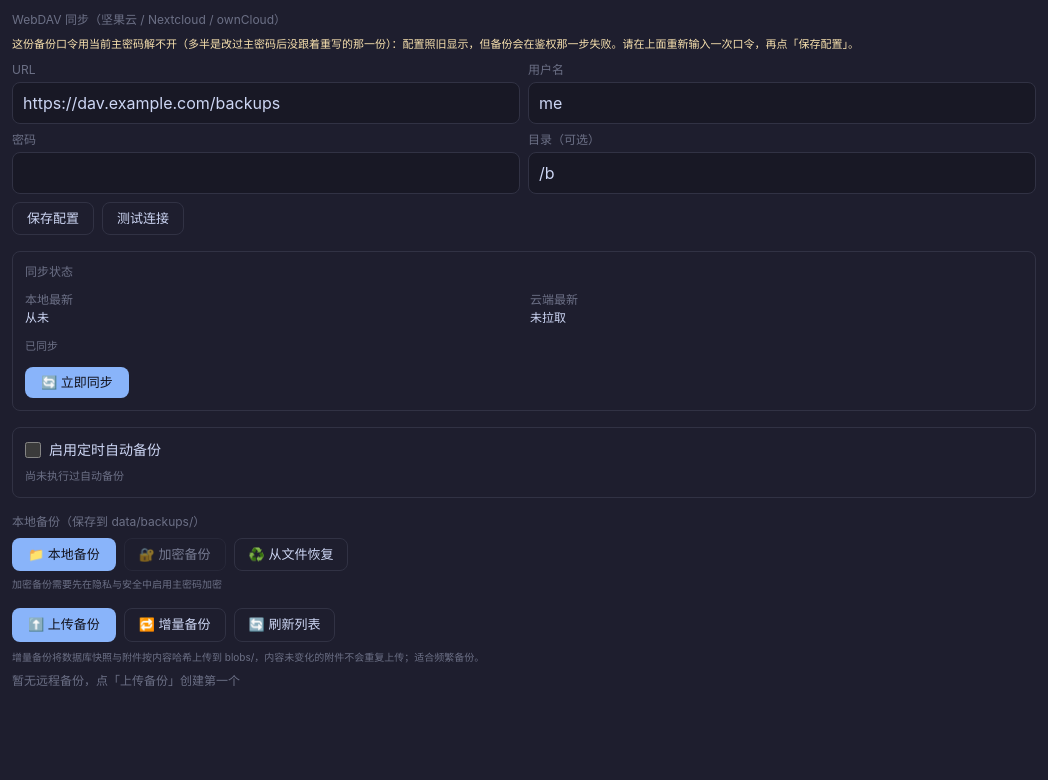
Test: ①「这份口令解不开」那一句 › 只改目录（口令栏留空＝沿用已存那份）⇒ 那句不许替它说话，仍然在屏上
Step 1. Replace the text in the field below "目录（可选）" with "/b2" → (782, 173), box 528,152 -> 1036,194
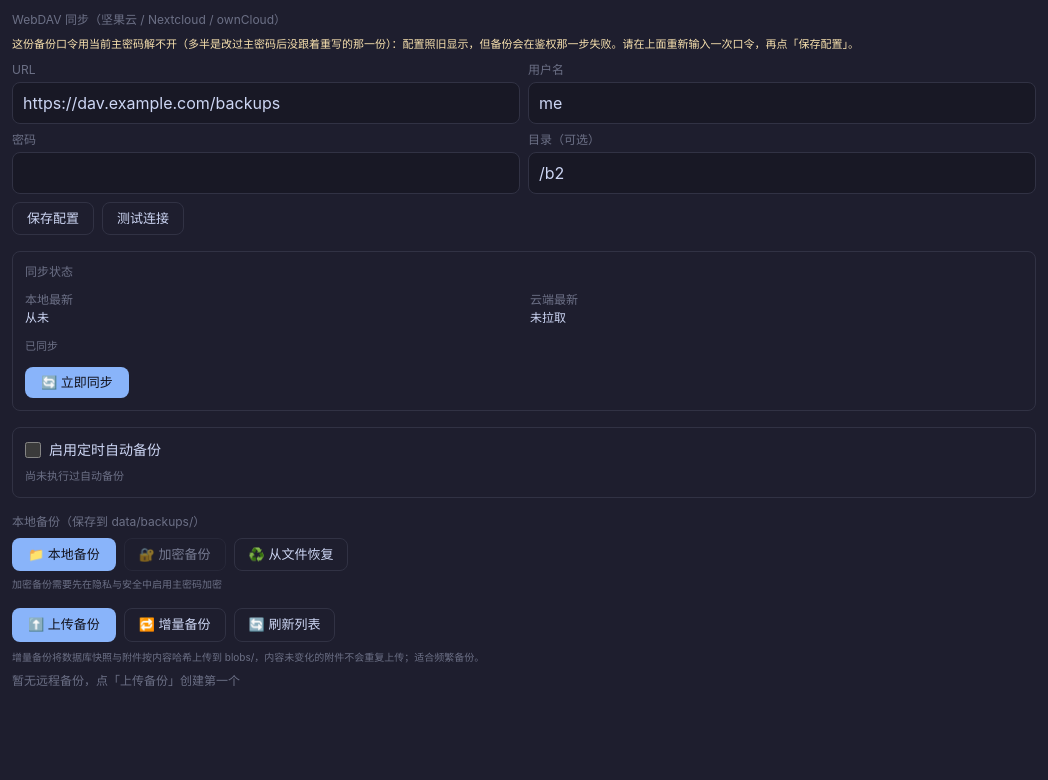
Step 2. Click the button "保存配置" → (53, 219), box 12,202 -> 94,235
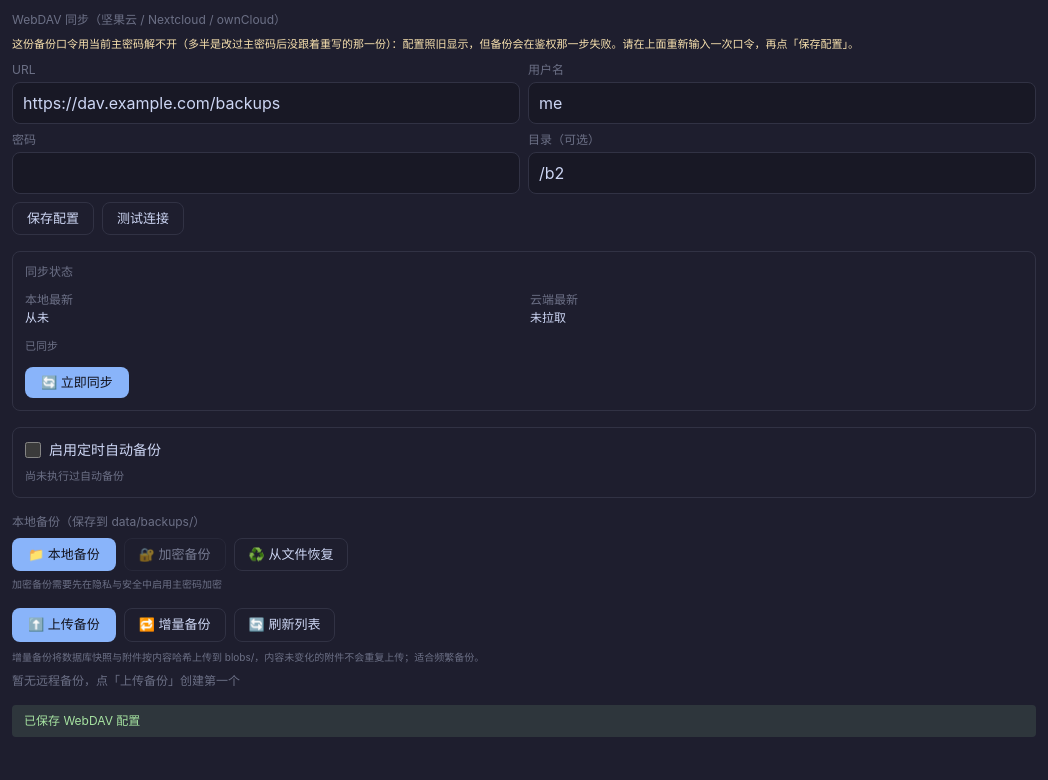
Now the text "已保存 WebDAV 配置" is shown, box 12,705 -> 1036,737
